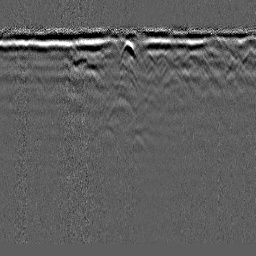cavity: (117, 38, 139, 61)
